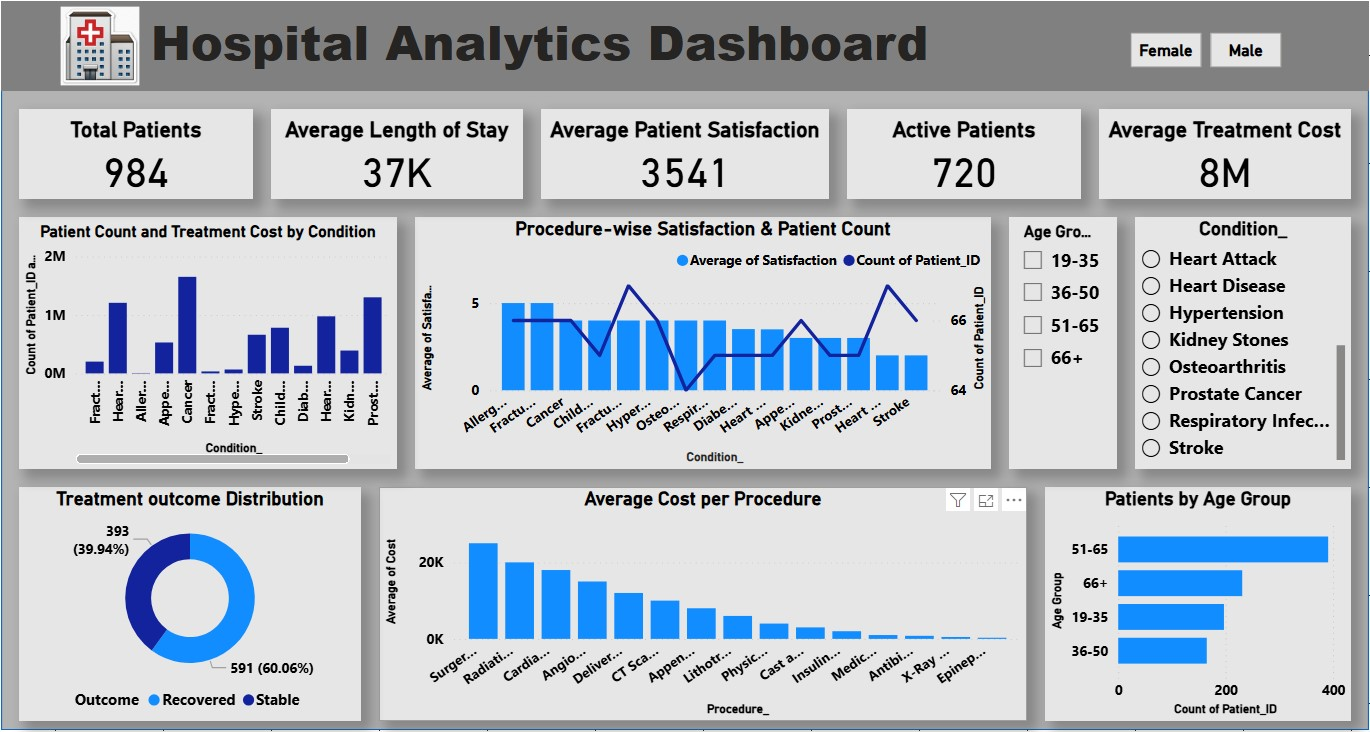

This screenshot's page, from the dashboard's own definition file:
{"tool":"powerbi","page":{"name":"Hospital Patient Dashboard","canvas":[1280,720],"ordinal":7},"visuals":[{"type":"shape","box":[48,48,1216,648],"z":0},{"type":"textbox","box":[48,48,1216,80],"z":1000},{"type":"lineStackedColumnComboChart","title":"Procedure-wise Satisfaction & Patient Count","fields":{"Category":["mydatabase hospital.Condition_"],"Y":["Avg(mydatabase hospital.Satisfaction)"],"Y2":["CountNonNull(mydatabase hospital.Patient_ID)"]},"box":[416,240,512,224],"z":2000},{"type":"columnChart","title":"Average Cost per Procedure","fields":{"Category":["mydatabase hospital.Procedure_"],"Y":["Avg(mydatabase hospital.Cost)"]},"box":[384,480,576,208],"z":3000},{"type":"barChart","title":"Patients by Age Group","fields":{"Category":["mydatabase hospital.Age Group"],"Y":["CountNonNull(mydatabase hospital.Patient_ID)"]},"box":[976,480,272,208],"z":4000},{"type":"donutChart","title":"Treatment outcome Distribution","fields":{"Category":["mydatabase hospital.Outcome"],"Y":["CountNonNull(mydatabase hospital.Patient_ID)"]},"box":[64,480,304,208],"z":5000},{"type":"columnChart","title":" Patient Count and Treatment Cost by Condition","fields":{"Category":["mydatabase hospital.Condition_"],"Y":["CountNonNull(mydatabase hospital.Patient_ID)","Sum(mydatabase hospital.Cost)"]},"box":[64,240,336,224],"z":6000},{"type":"card","title":"Total Patients","fields":{"Values":["CountNonNull(mydatabase hospital.Patient_ID)"]},"box":[64,144,208,80],"z":7000},{"type":"card","title":"Average Length of Stay","fields":{"Values":["Sum(mydatabase hospital.Length_of_Stay)"]},"box":[288,144,224,80],"z":8000},{"type":"card","title":"Average Patient Satisfaction","fields":{"Values":["Sum(mydatabase hospital.Satisfaction)"]},"box":[528,144,256,80],"z":9000},{"type":"card","title":"Active Patients","fields":{"Values":["mydatabase hospital.Active Patients"]},"box":[800,144,208,80],"z":10000},{"type":"card","title":"Average Treatment Cost","fields":{"Values":["Sum(mydatabase hospital.Cost)"]},"box":[1024,144,224,80],"z":11000},{"type":"slicer","fields":{"Values":["mydatabase hospital.Age Group"]},"box":[944,240,96,224],"z":12000},{"type":"listSlicer","fields":{"Values":["mydatabase hospital.Condition_"]},"box":[1056,240,192,224],"z":13000},{"type":"image","box":[48,48,176,80],"z":14000},{"type":"advancedSlicerVisual","fields":{"Values":["mydatabase hospital.Gender"]},"box":[1032,64,232,48],"z":14001}]}

Visuals, with their boxes on the page's 1280x720 design canvas (x1, y1, x2, y2). These are canvas units, not pixel positions in the 1370x732 screenshot, which may show the page scaled, cropped or inside an application window:
shape: bbox(48, 48, 1264, 696)
textbox: bbox(48, 48, 1264, 128)
"Procedure-wise Satisfaction & Patient Count" lineStackedColumnComboChart: bbox(416, 240, 928, 464)
"Average Cost per Procedure" columnChart: bbox(384, 480, 960, 688)
"Patients by Age Group" barChart: bbox(976, 480, 1248, 688)
"Treatment outcome Distribution" donutChart: bbox(64, 480, 368, 688)
" Patient Count and Treatment Cost by Condition" columnChart: bbox(64, 240, 400, 464)
"Total Patients" card: bbox(64, 144, 272, 224)
"Average Length of Stay" card: bbox(288, 144, 512, 224)
"Average Patient Satisfaction" card: bbox(528, 144, 784, 224)
"Active Patients" card: bbox(800, 144, 1008, 224)
"Average Treatment Cost" card: bbox(1024, 144, 1248, 224)
slicer - mydatabase hospital.Age Group: bbox(944, 240, 1040, 464)
listSlicer - mydatabase hospital.Condition_: bbox(1056, 240, 1248, 464)
image: bbox(48, 48, 224, 128)
advancedSlicerVisual - mydatabase hospital.Gender: bbox(1032, 64, 1264, 112)
